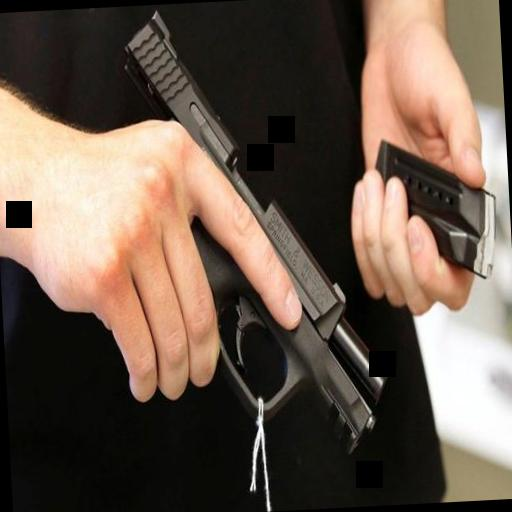Handgun: (73, 0, 391, 468)
